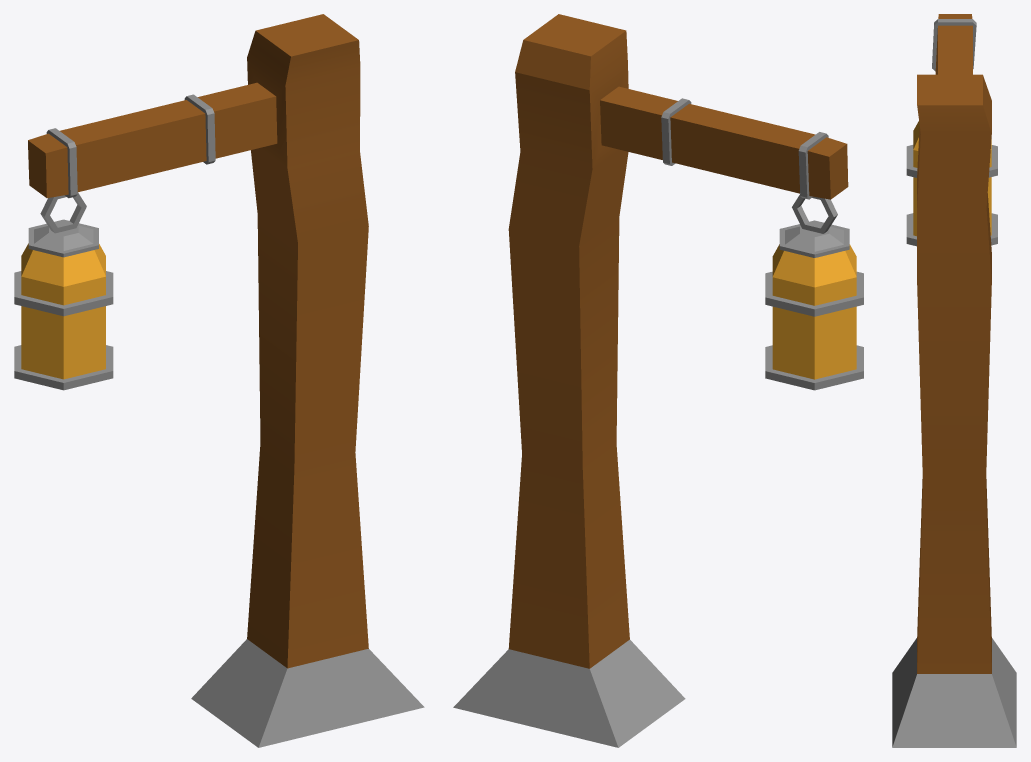
The model's file is Lamp_Post_01.fbx.
3 views of the same model, side by side, from view 1: azimuth 30°, elevation 25°; view 2: azimuth 150°, elevation 25°; view 3: azimuth 270°, elevation 25° (orthographic). The views are drawn at different scales.
Parts seen in each view (by area): view 1: Lamp_Post_01; view 2: Lamp_Post_01; view 3: Lamp_Post_01.
Boxes of the visible parts, bbox=[...] form: Lamp_Post_01: bbox=[14, 14, 424, 747]; Lamp_Post_01: bbox=[453, 14, 863, 747]; Lamp_Post_01: bbox=[892, 14, 1016, 747].
Bounding box in the file's own units: 52.58 × 89.07 × 16.24.
